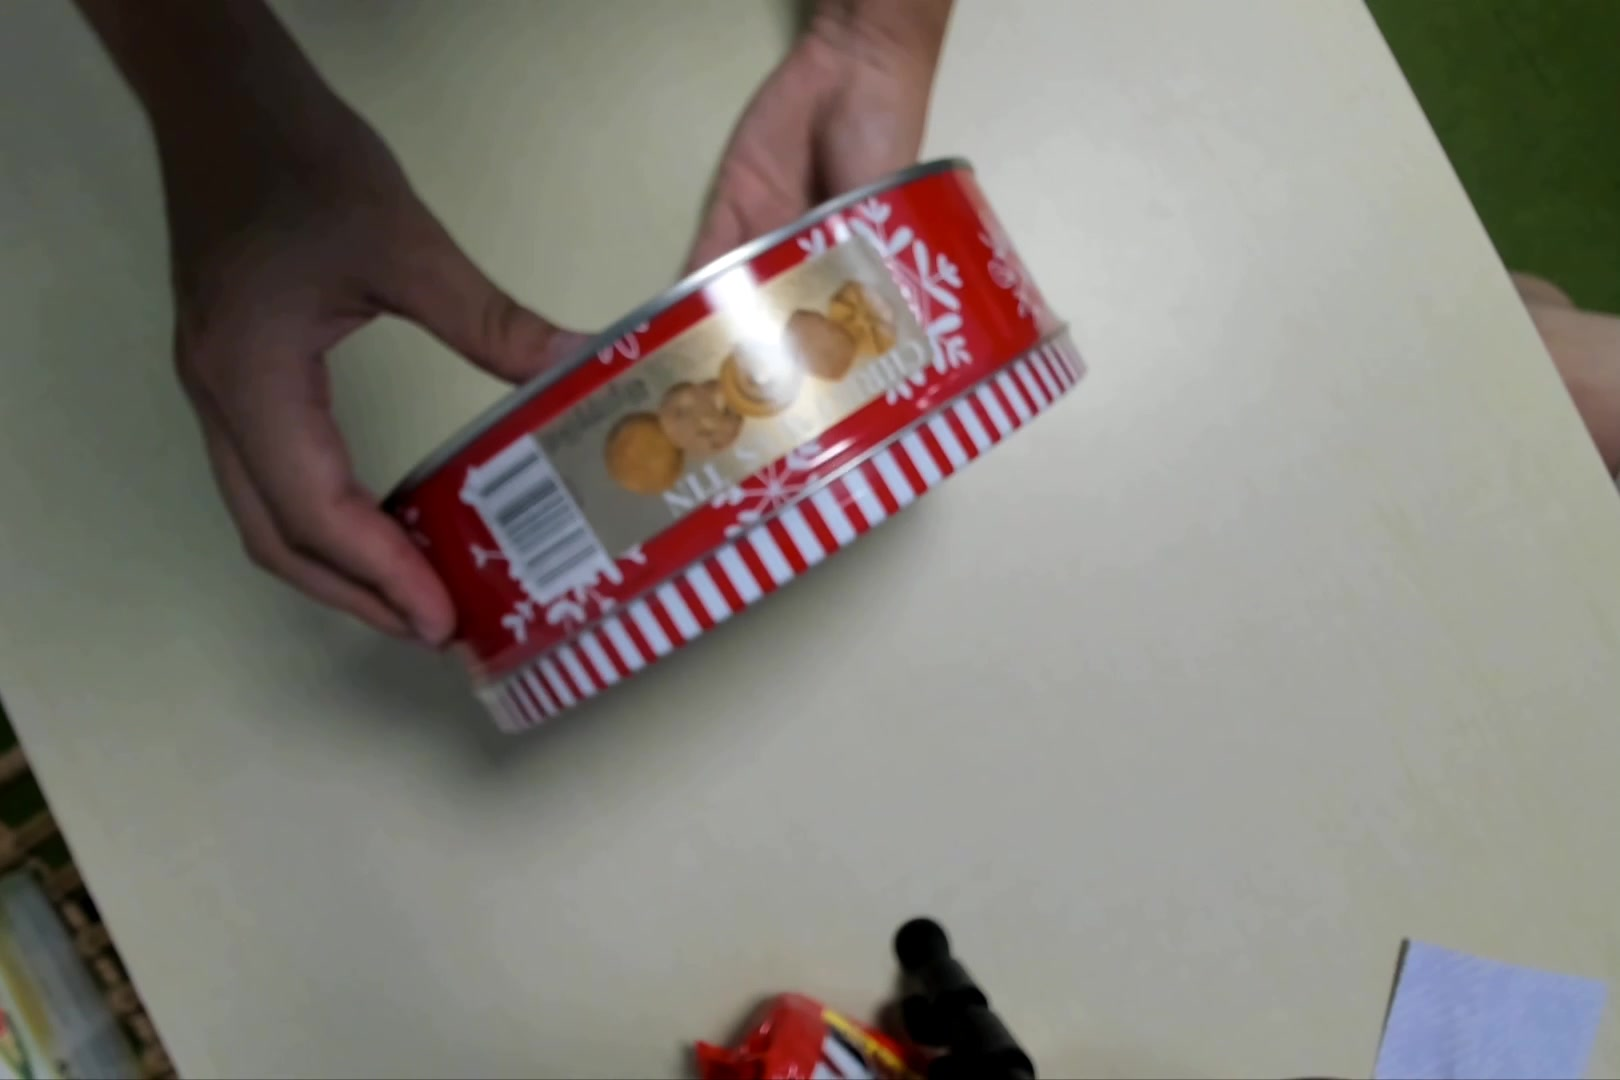BiscuitsCrackersCookies_400-499g_NonHalal_NonHealthy: (370, 148, 1093, 752)
